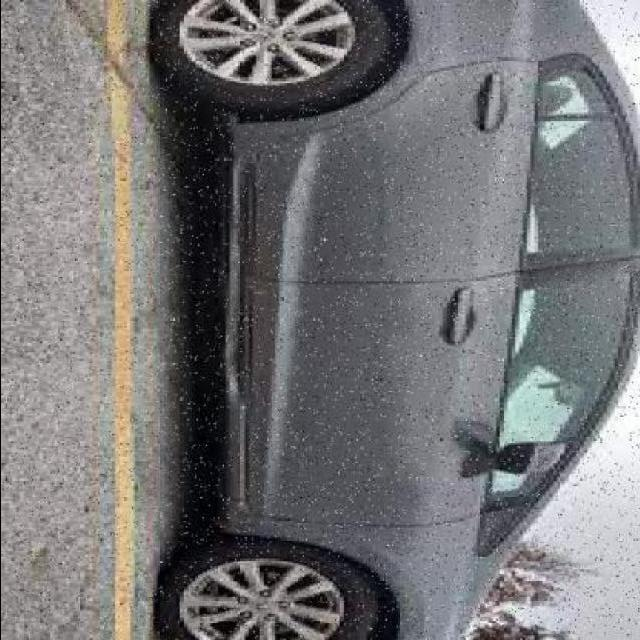RunningBoard-Dent: (217, 139, 274, 425)
